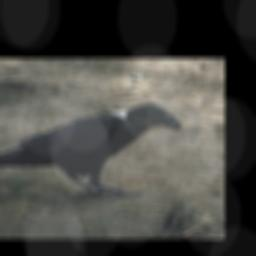Crow: (0, 101, 182, 200)
